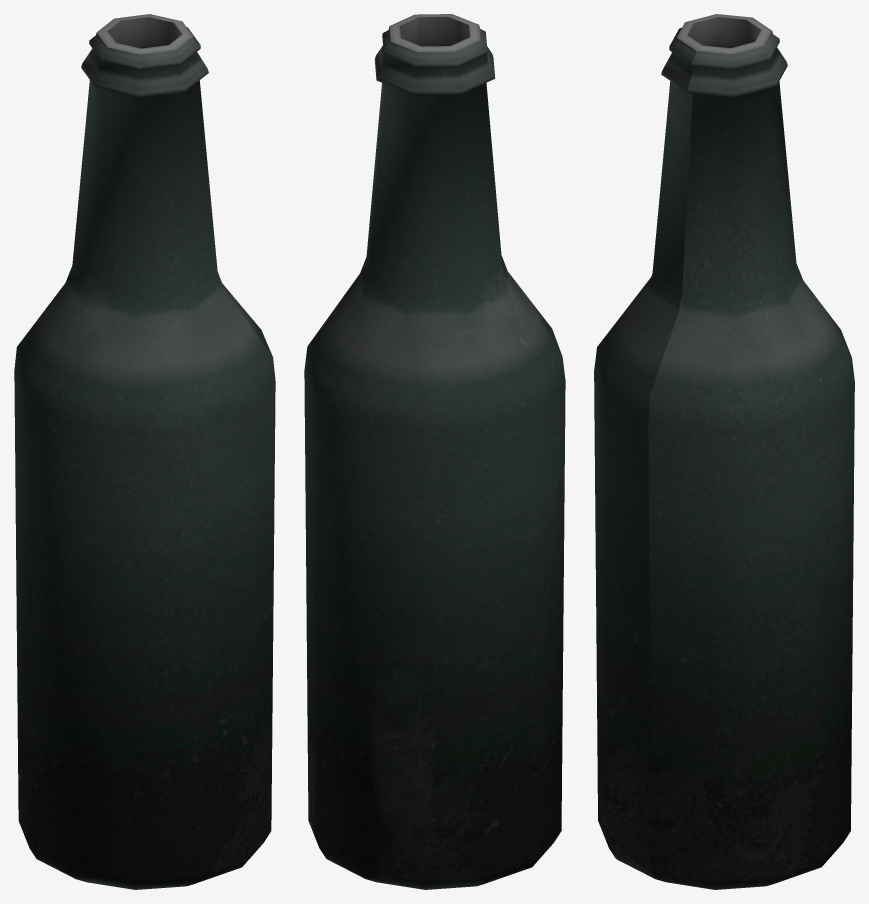
Rendered from SM_Bottle_10.fbx.
The picture shows the model from 3 angles, left to right: view 1: azimuth 30°, elevation 25°; view 2: azimuth 150°, elevation 25°; view 3: azimuth 270°, elevation 25°; orthographic projection.
Parts seen in each view (by area): view 1: SM_Bottle_10_LOD0; view 2: SM_Bottle_10_LOD0; view 3: SM_Bottle_10_LOD0.
Boxes of the visible parts, <box> form: SM_Bottle_10_LOD0: <box>14,14,275,889</box>; SM_Bottle_10_LOD0: <box>304,14,565,889</box>; SM_Bottle_10_LOD0: <box>594,14,854,889</box>.
Bounding box in the file's own units: 7.8 × 7.8 × 26.88.
